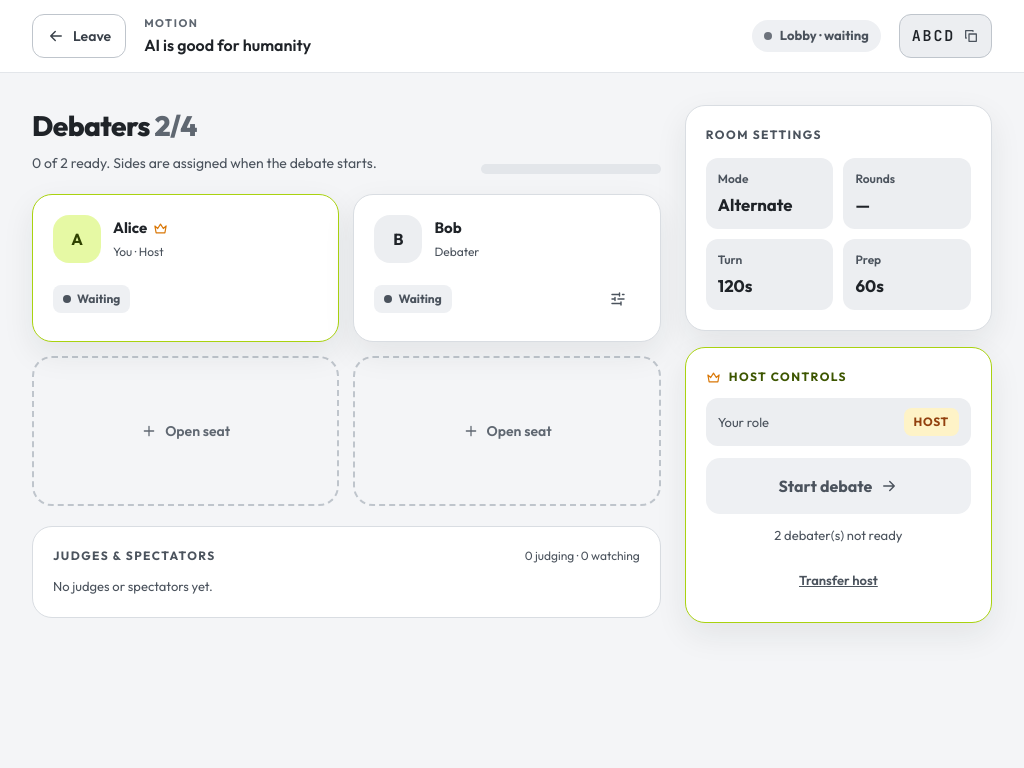
RoomLobby › host controls › clicking ⋯ opens the role-change menu
The width and height of the screenshot is (1024, 768).
Click the button titled "Manage" at (618, 299), box [596, 277, 640, 321]
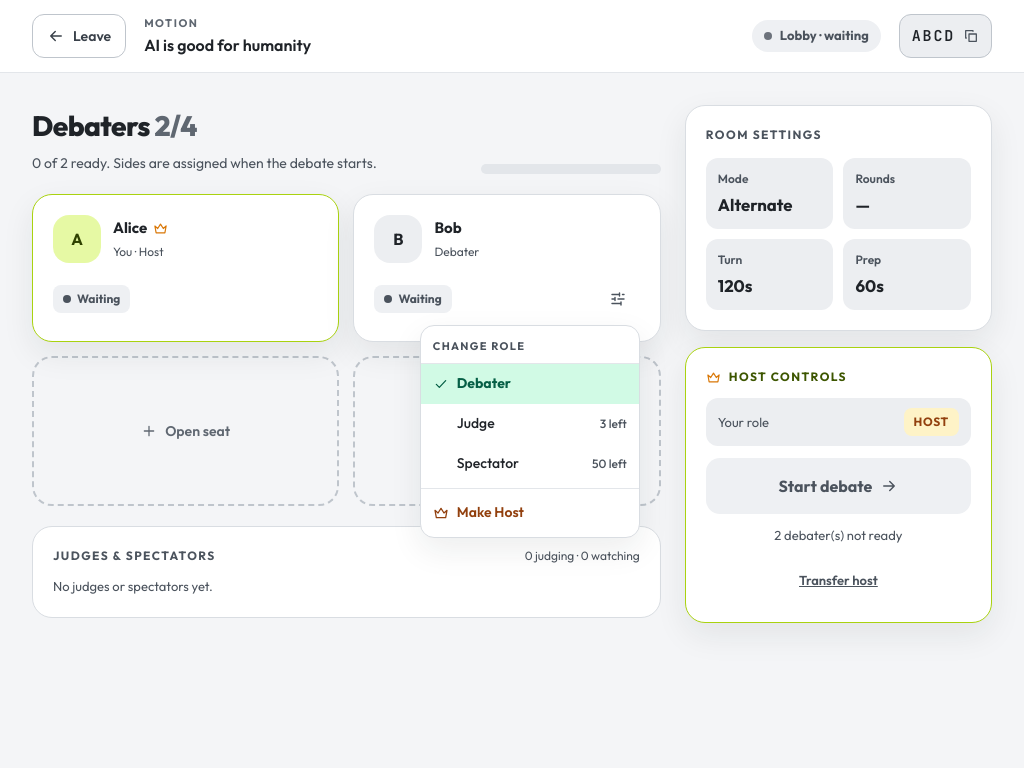
Expected: the text "Change Role" is shown, [421, 330, 639, 364]
